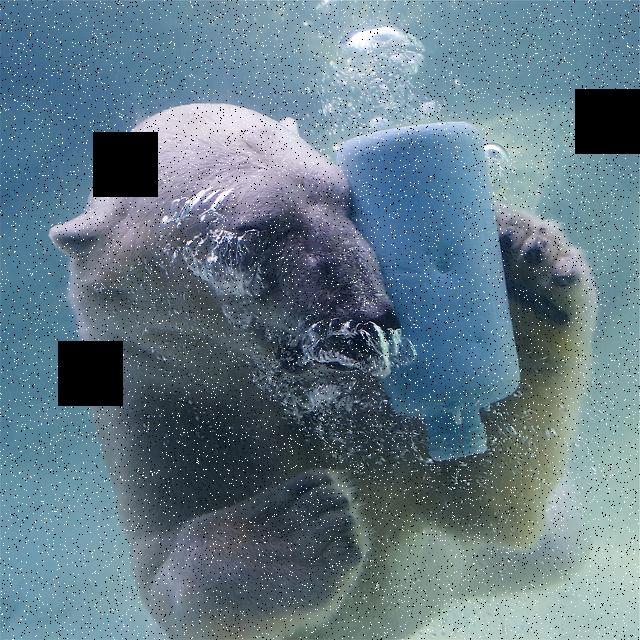Bear: (31, 79, 601, 640)
